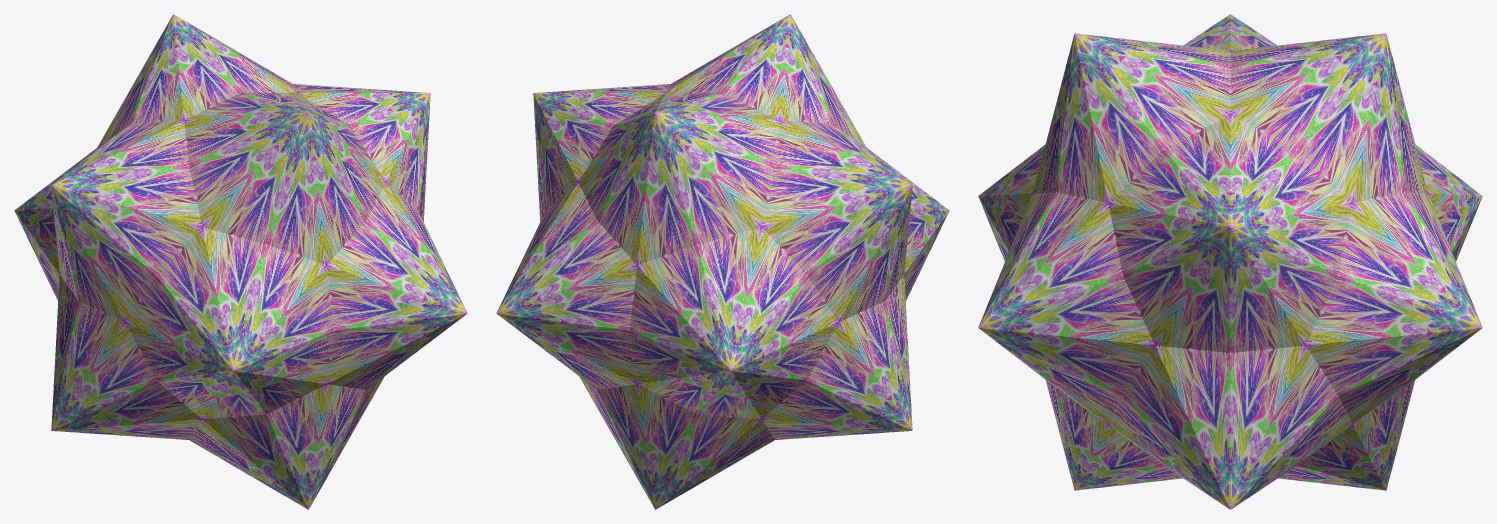
Rendered from SmallDodecacronicHexecontahedron7.obj.
3 renders of one model, left to right at view 1: azimuth 30°, elevation 25°; view 2: azimuth 150°, elevation 25°; view 3: azimuth 270°, elevation 25°, orthographic. The views are drawn at different scales.
Size of the model in its own units: 5.24 by 5.24 by 5.24.
Materials: 1 (1 with a texture image).
